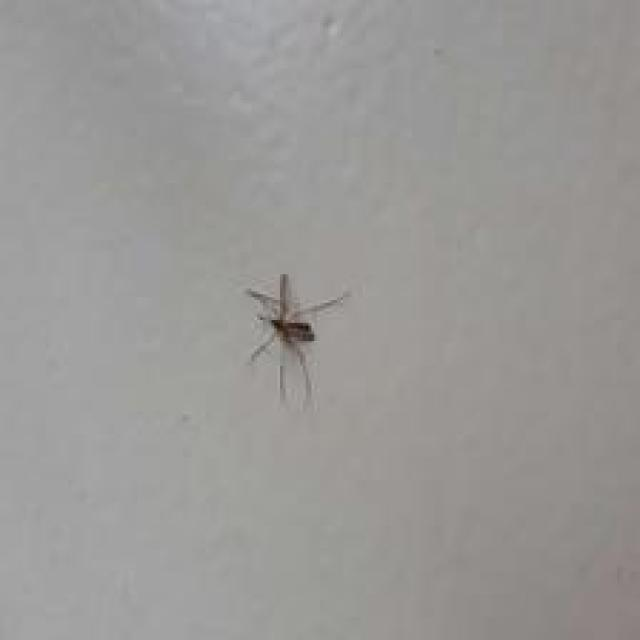Culex: (244, 272, 350, 408)
